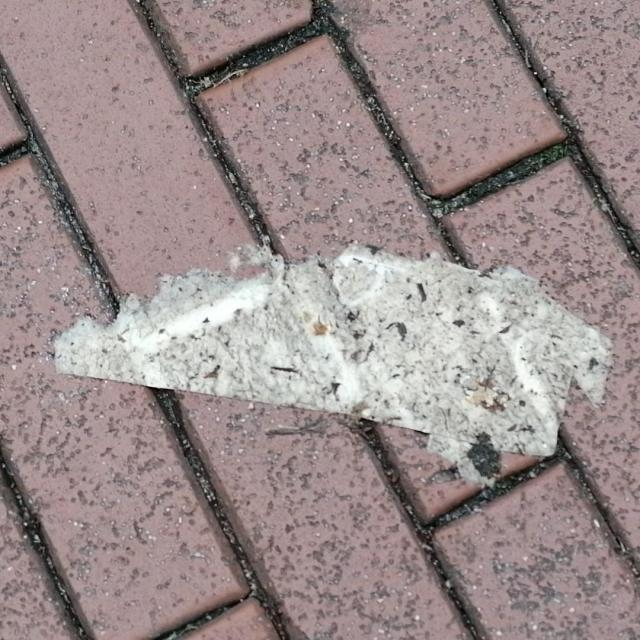Paper: (49, 234, 616, 490)
